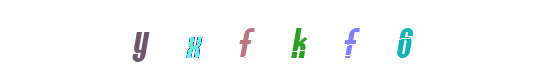6: (365, 0, 445, 80)
F: (240, 0, 320, 80), (262, 0, 342, 80)
K: (258, 0, 338, 80)
X: (205, 0, 285, 80)
Y: (142, 0, 222, 80)
